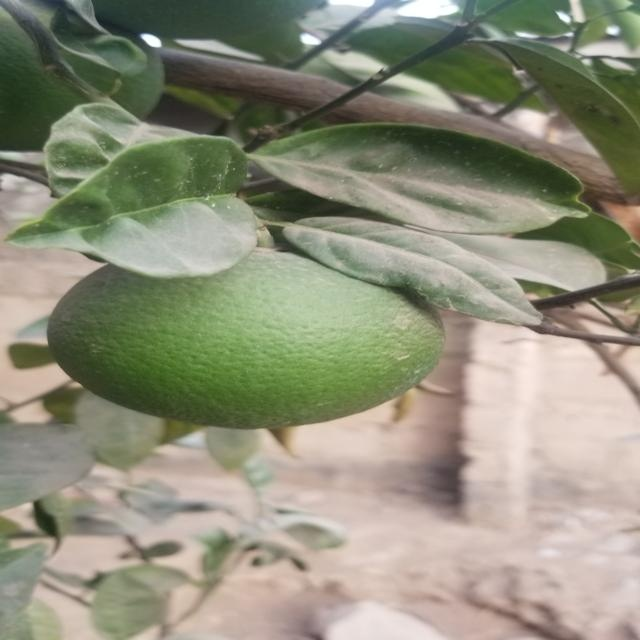agrume: (52, 251, 438, 432)
